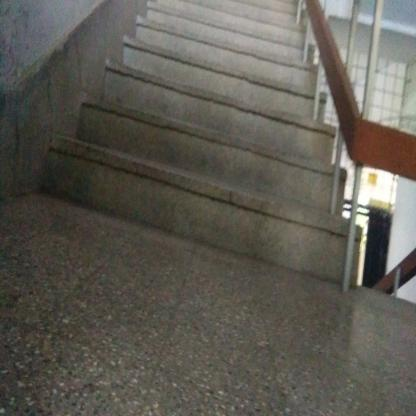stairs: (115, 74, 308, 272)
